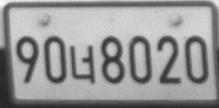0: (128, 34, 153, 85), (42, 34, 67, 84), (184, 34, 209, 84)
2: (156, 34, 182, 84)
8: (100, 34, 126, 83)
9: (15, 34, 40, 83)
너: (69, 44, 96, 84)
